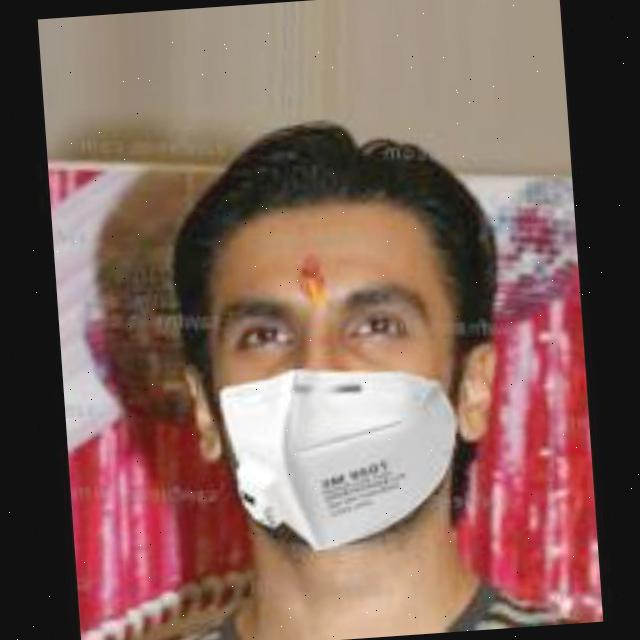suspicion: (136, 128, 495, 558)
